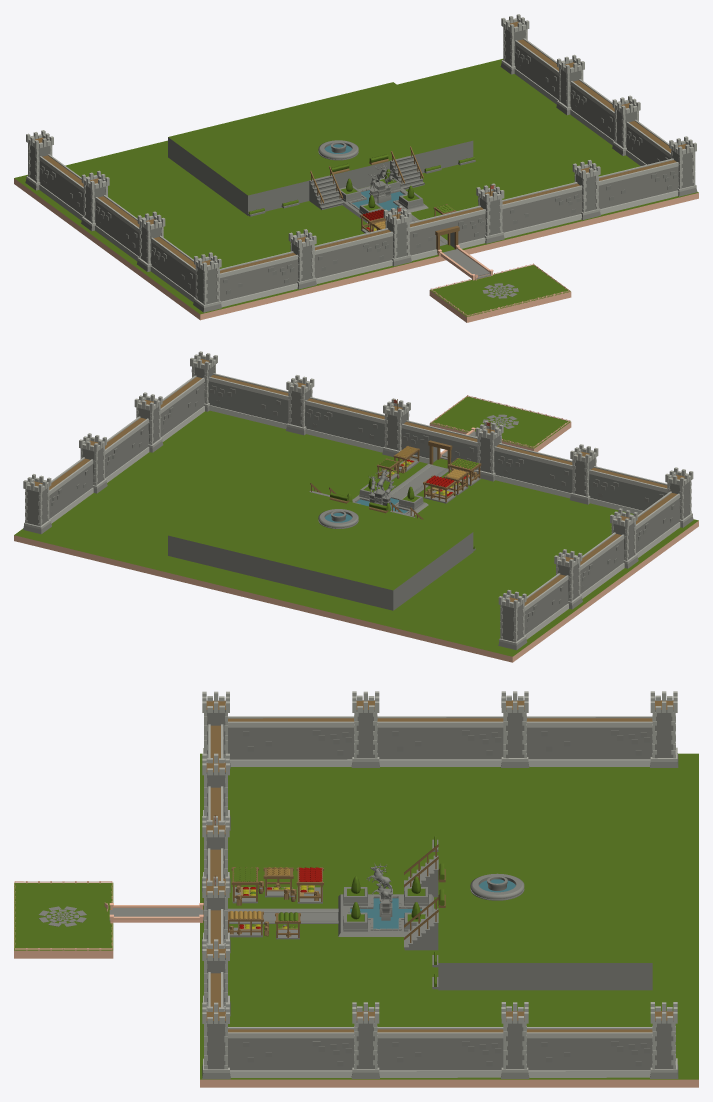
The model's file is PublicSquare.glb.
3 renders of one model, top to bottom at view 1: azimuth 30°, elevation 25°; view 2: azimuth 150°, elevation 25°; view 3: azimuth 270°, elevation 25°, orthographic. The views are drawn at different scales.
Parts seen in each view (by area): view 1: cliff_block_rock.001, cliff_block_rock.002, WallTowers_Door_SecondAge, WallTowers_SecondAge.003, cliff_block_rock, WallTowers_SecondAge.002, WallTowers_SecondAge, WallTowers_SecondAge.001, WallTowers_SecondAge.006, WallTowers_SecondAge.007, WallTowers_SecondAge.004, WallTowers_SecondAge.009 (+6 smaller); view 2: cliff_block_rock.001, cliff_block_rock.002, WallTowers_Door_SecondAge, WallTowers_SecondAge, WallTowers_SecondAge.001, WallTowers_SecondAge.002, cliff_block_rock, WallTowers_SecondAge.003, WallTowers_SecondAge.008, WallTowers_SecondAge.009, WallTowers_SecondAge.006, WallTowers_SecondAge.007 (+6 smaller); view 3: cliff_block_rock.001, cliff_block_rock.002, WallTowers_SecondAge.005, WallTowers_SecondAge.004, WallTowers_SecondAge.007, WallTowers_SecondAge.008, WallTowers_SecondAge.009, WallTowers_SecondAge.006, cliff_block_rock, TownCenter_SecondAge_Level3, Market_SecondAge_Level3.003, WallTowers_Door_SecondAge (+7 smaller).
Boxes of the visible parts, x1,y1,x2,y2 form: cliff_block_rock.001: (14, 59, 698, 320); cliff_block_rock.002: (168, 82, 473, 215); WallTowers_Door_SecondAge: (383, 183, 504, 266); WallTowers_SecondAge.003: (193, 251, 298, 312); cliff_block_rock: (429, 265, 571, 322); WallTowers_SecondAge.002: (598, 136, 697, 214); WallTowers_SecondAge: (502, 160, 600, 238); WallTowers_SecondAge.001: (288, 228, 393, 289); WallTowers_SecondAge.006: (137, 211, 195, 302); WallTowers_SecondAge.007: (81, 170, 139, 261); WallTowers_SecondAge.004: (556, 54, 614, 145); WallTowers_SecondAge.009: (500, 14, 558, 104); cliff_block_rock.001: (14, 410, 698, 662); cliff_block_rock.002: (168, 477, 473, 610); WallTowers_Door_SecondAge: (382, 398, 503, 481); WallTowers_SecondAge: (286, 375, 384, 452); WallTowers_SecondAge.001: (494, 443, 598, 504); WallTowers_SecondAge.002: (190, 351, 288, 428); cliff_block_rock: (429, 396, 571, 451); WallTowers_SecondAge.003: (589, 466, 693, 527); WallTowers_SecondAge.008: (498, 573, 568, 650); WallTowers_SecondAge.009: (23, 457, 93, 534); WallTowers_SecondAge.006: (610, 491, 680, 568); WallTowers_SecondAge.007: (554, 532, 624, 609); cliff_block_rock.001: (200, 753, 698, 1087); cliff_block_rock.002: (438, 815, 652, 990); WallTowers_SecondAge.005: (228, 1002, 379, 1078); WallTowers_SecondAge.004: (377, 1002, 529, 1078); WallTowers_SecondAge.007: (377, 691, 529, 767); WallTowers_SecondAge.008: (526, 691, 678, 767); WallTowers_SecondAge.009: (526, 1002, 678, 1078); WallTowers_SecondAge.006: (228, 691, 379, 767); cliff_block_rock: (14, 882, 113, 958); TownCenter_SecondAge_Level3: (338, 863, 433, 936); Market_SecondAge_Level3.003: (231, 867, 323, 905); WallTowers_Door_SecondAge: (202, 814, 230, 953).
Size of the model in its own units: 320 by 36.38 by 284.
